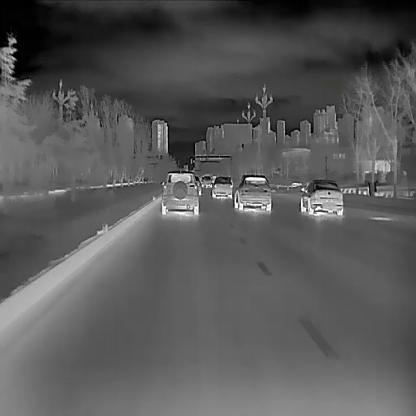car: (160, 169, 198, 214), (299, 179, 343, 215), (234, 173, 271, 211), (212, 174, 232, 197), (194, 175, 202, 194), (202, 175, 212, 186)
